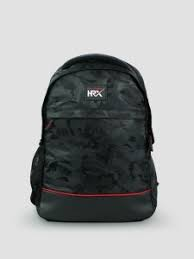backpack: (29, 52, 158, 222)
